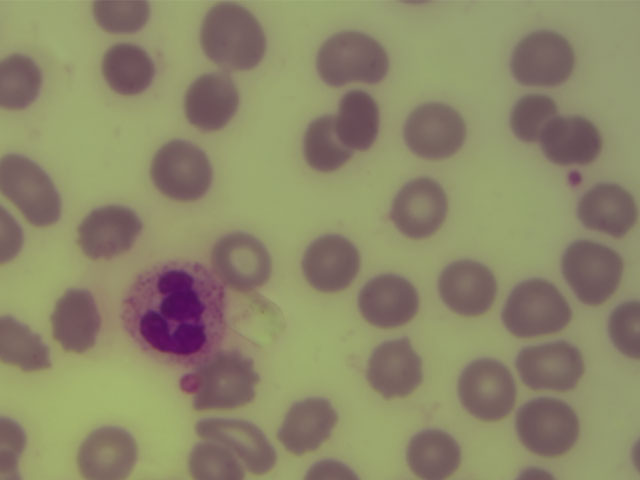Platelets: (179, 376, 199, 393), (565, 171, 579, 184)
RBC: (194, 396, 280, 472), (1, 152, 67, 227), (201, 1, 269, 72), (315, 30, 396, 85), (560, 236, 623, 305), (504, 278, 571, 339), (506, 29, 573, 88), (518, 391, 577, 458), (149, 139, 213, 200), (44, 287, 103, 353), (457, 356, 517, 420), (403, 102, 468, 161), (517, 335, 582, 393), (77, 204, 143, 261), (331, 89, 387, 149), (303, 235, 359, 291), (405, 424, 461, 480), (278, 396, 334, 452), (81, 423, 137, 479), (368, 339, 424, 395), (440, 258, 496, 314), (200, 350, 256, 406), (360, 272, 416, 328), (579, 181, 635, 237), (215, 233, 271, 289), (544, 114, 600, 170), (502, 90, 558, 146), (392, 178, 448, 234), (298, 116, 354, 172), (183, 73, 239, 129), (101, 39, 157, 95), (1, 419, 56, 475), (1, 316, 56, 372), (1, 56, 43, 108), (605, 304, 640, 358), (189, 446, 242, 480), (93, 1, 150, 31), (1, 208, 24, 264), (507, 462, 560, 480), (307, 461, 357, 480), (628, 424, 640, 475)
WBC: (127, 260, 226, 363)
